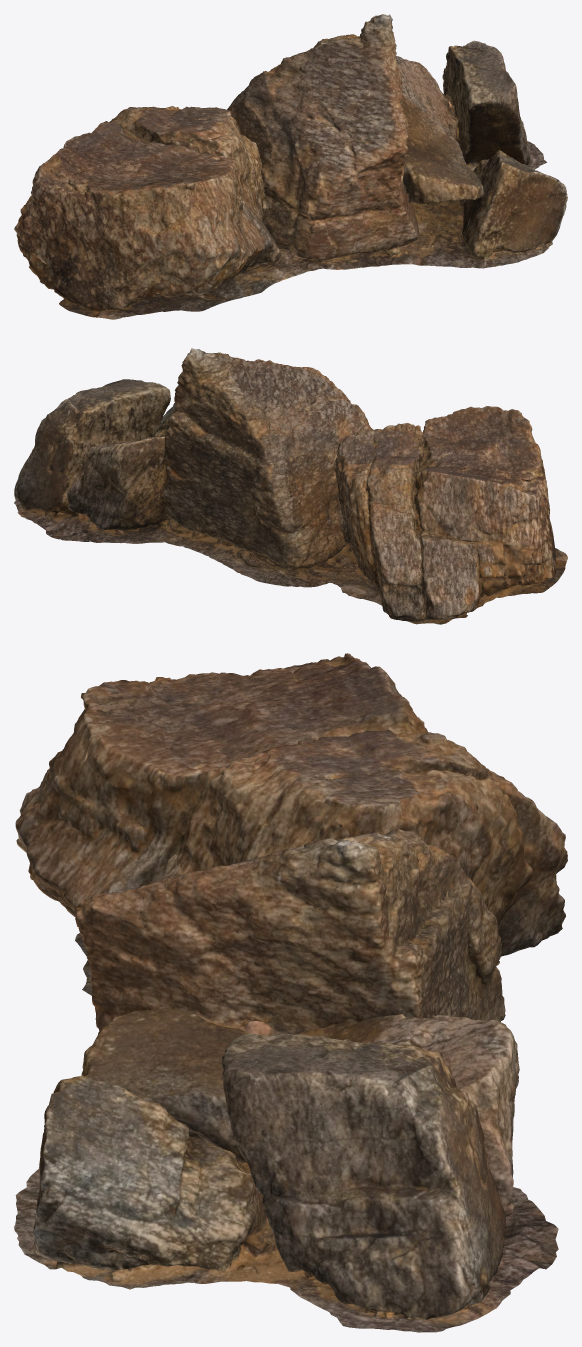
Rendered from namaqualand_boulder_02_2k.glb.
3 renders of one model, top to bottom at view 1: azimuth 30°, elevation 25°; view 2: azimuth 150°, elevation 25°; view 3: azimuth 270°, elevation 25°, orthographic. The views are drawn at different scales.
Parts seen in each view (by area): view 1: boulder_02; view 2: boulder_02; view 3: boulder_02.
Boxes of the visible parts, bbox=[...] form: boulder_02: bbox=[14, 14, 567, 319]; boulder_02: bbox=[14, 348, 567, 624]; boulder_02: bbox=[14, 653, 567, 1332].
Size of the model in its own units: 2.53 by 0.8827 by 1.23.
Materials: 1 (1 with a texture image).
